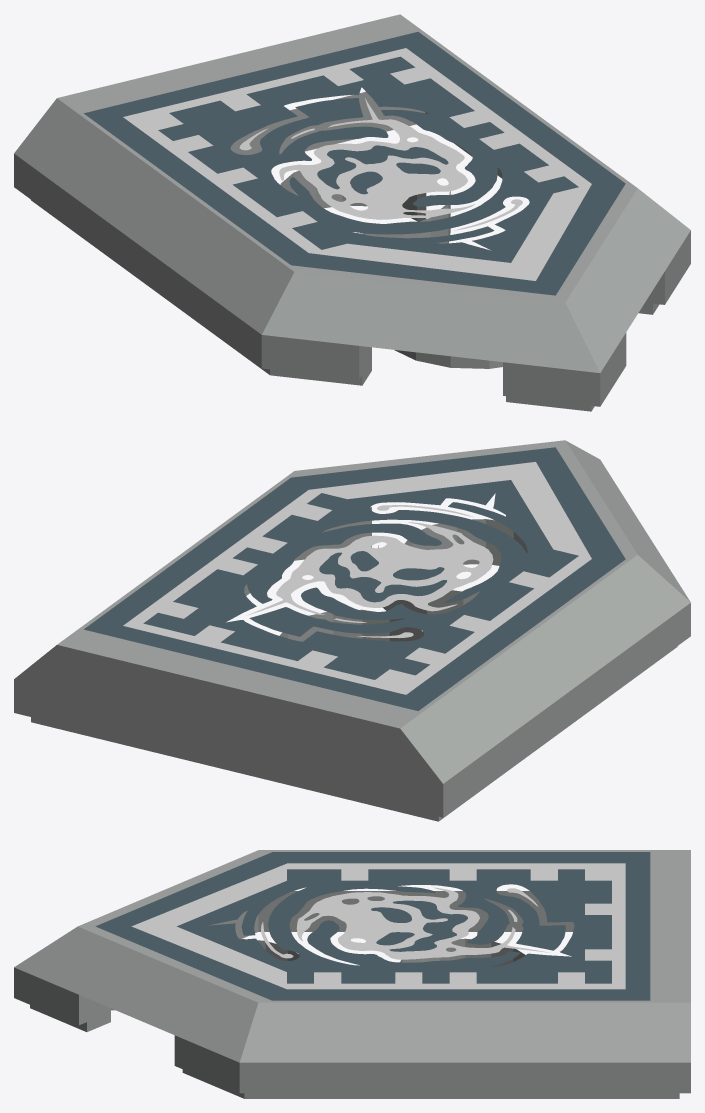
3 renders of one model, top to bottom at view 1: azimuth 30°, elevation 25°; view 2: azimuth 150°, elevation 25°; view 3: azimuth 270°, elevation 25°, orthographic. The views are drawn at different scales.
Visible parts, largest first — view 1: world; view 2: world; view 3: world.
Boxes of the visible parts, left/top/right/bottom form: world: left=14, top=14, right=690, bottom=411; world: left=14, top=440, right=690, bottom=821; world: left=14, top=850, right=690, bottom=1098.
Bounding box in the file's own units: 0.016 × 0.0032 × 0.024.
